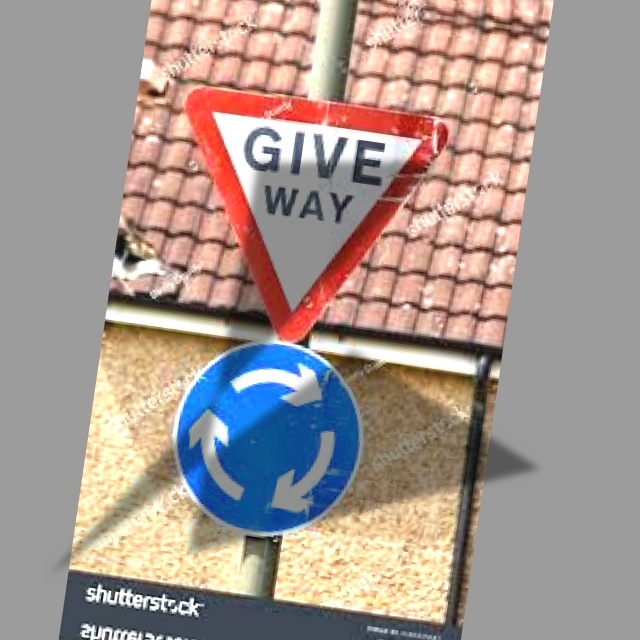Give_Way: (160, 83, 450, 363)
